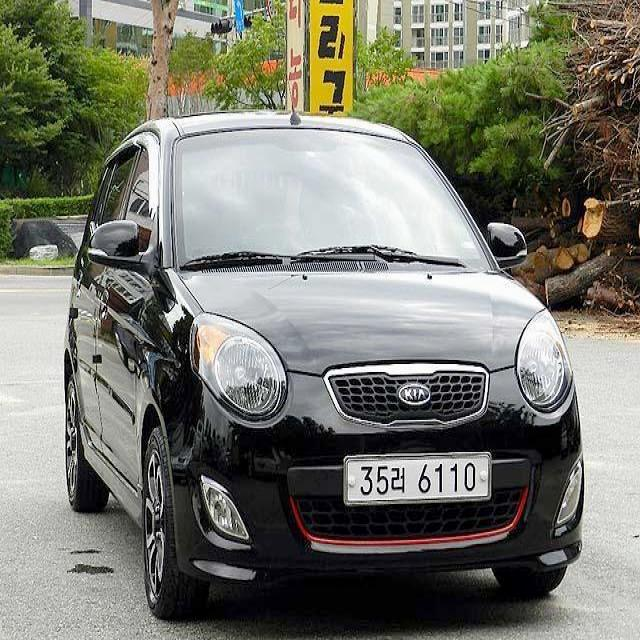car: (58, 96, 590, 626)
illegal_plate: (342, 450, 497, 514)
